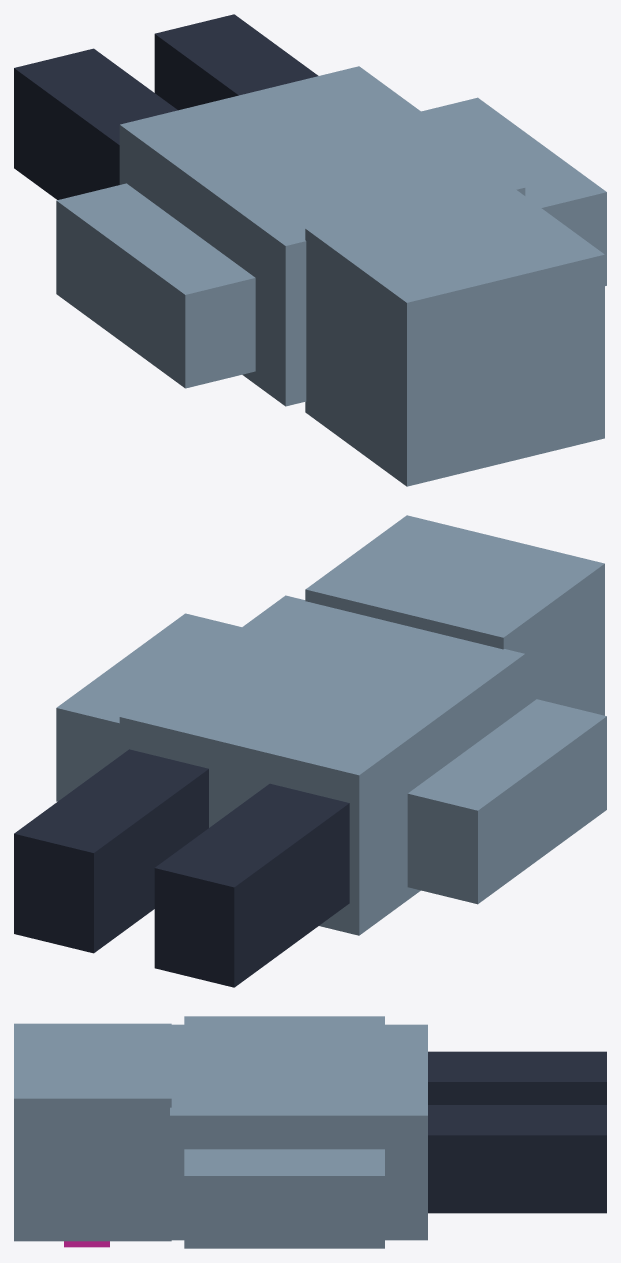
The model's file is future_robot.glb.
The picture shows the model from 3 angles, top to bottom: view 1: azimuth 30°, elevation 25°; view 2: azimuth 150°, elevation 25°; view 3: azimuth 270°, elevation 25°; orthographic projection. The views are drawn at different scales.
Parts seen in each view (by area): view 1: part_1, part_0, part_5, part_3, part_4, part_6; view 2: part_0, part_1, part_3, part_5, part_4, part_6; view 3: part_0, part_1, part_6, part_4, part_3, part_5.
Part boxes in pixels (x1=…): part_1: x1=305, y1=180, x2=604, y2=486; part_0: x1=119, y1=66, x2=525, y2=406; part_5: x1=56, y1=183, x2=255, y2=388; part_3: x1=14, y1=48, x2=177, y2=199; part_4: x1=154, y1=14, x2=318, y2=110; part_6: x1=421, y1=97, x2=606, y2=285; part_0: x1=119, y1=595, x2=525, y2=935; part_1: x1=305, y1=515, x2=604, y2=715; part_3: x1=154, y1=783, x2=349, y2=987; part_5: x1=407, y1=699, x2=606, y2=904; part_4: x1=14, y1=749, x2=208, y2=953; part_6: x1=56, y1=613, x2=241, y2=801; part_0: x1=170, y1=1024, x2=427, y2=1240; part_1: x1=14, y1=1023, x2=171, y2=1241; part_6: x1=184, y1=1149, x2=384, y2=1248; part_4: x1=428, y1=1105, x2=606, y2=1213; part_3: x1=428, y1=1051, x2=606, y2=1104; part_5: x1=184, y1=1016, x2=384, y2=1024.
Bounding box in the file's own units: 1.32 × 0.605 × 2.07.
